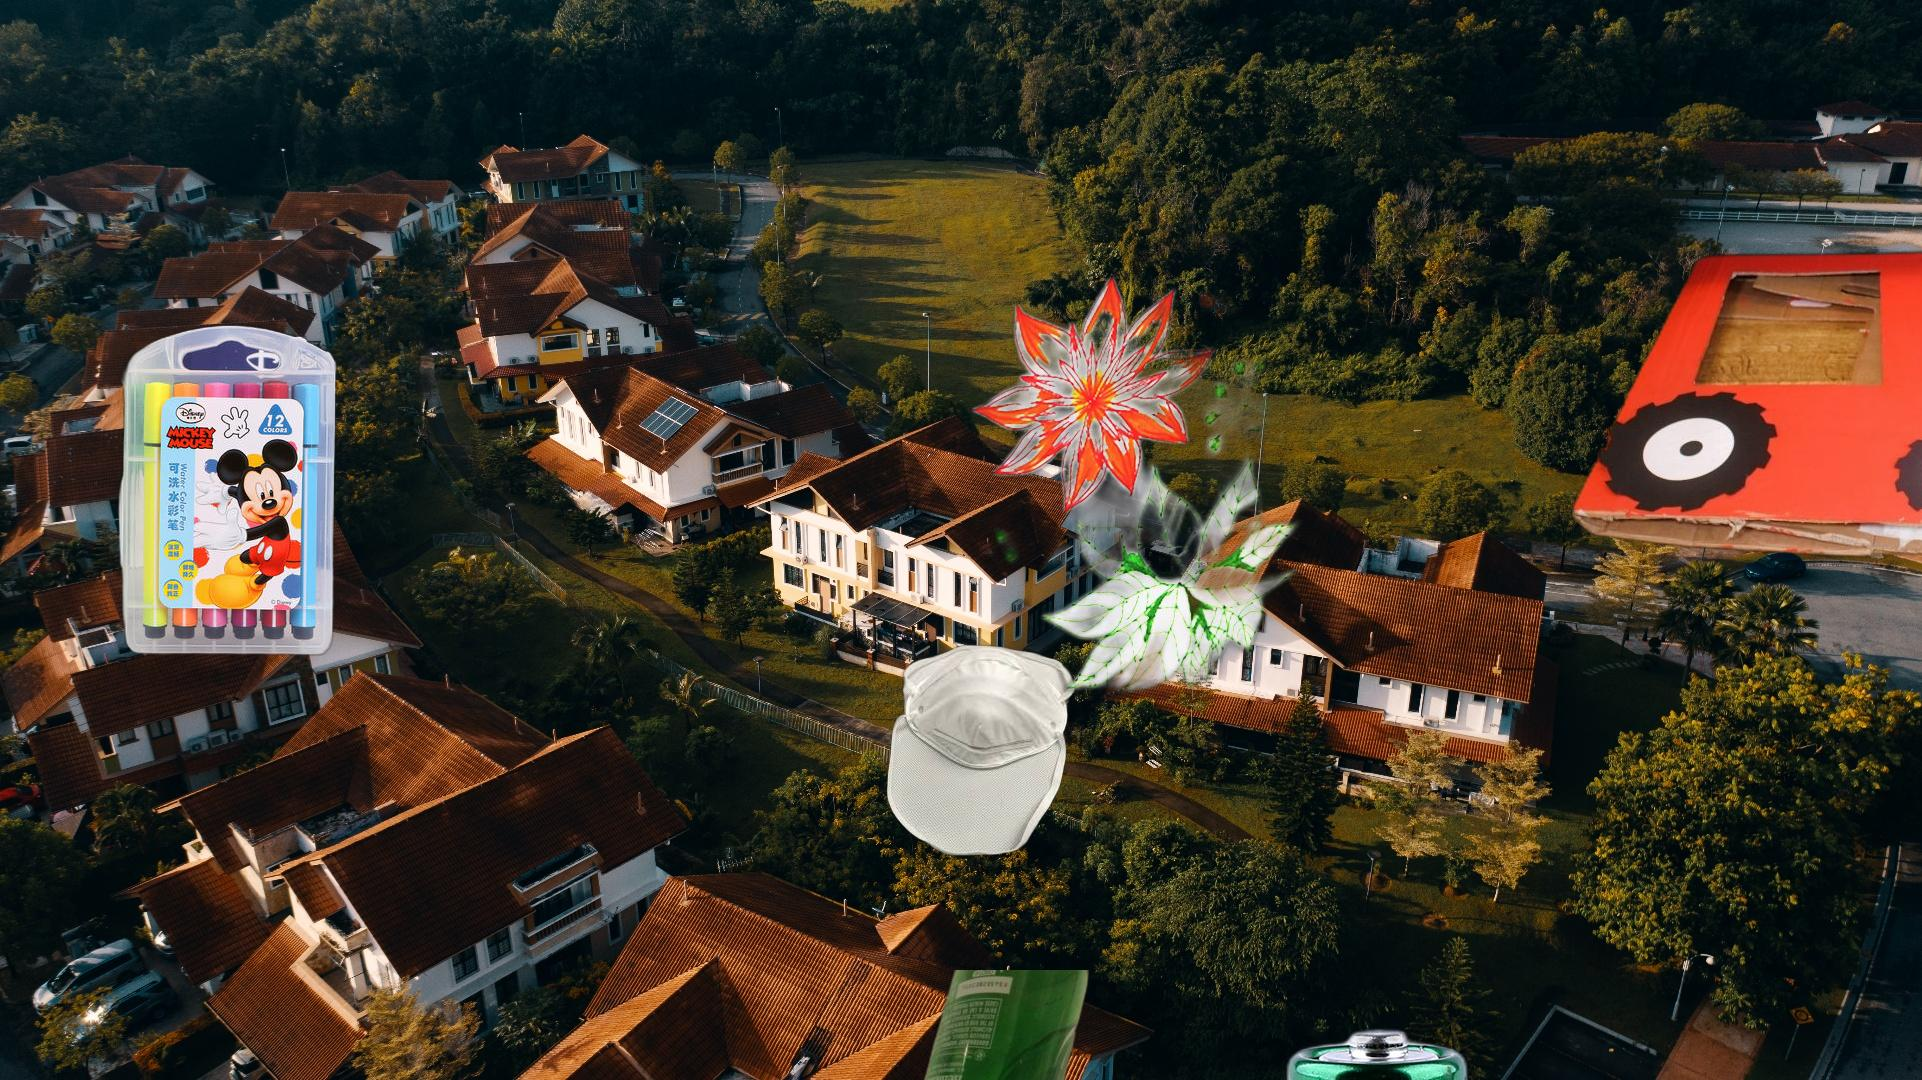battery: (1279, 1025, 1475, 1080)
glass: (883, 970, 1093, 1080)
penholder: (920, 190, 1720, 990), (114, 320, 368, 660)
trash: (884, 642, 1078, 860)
trashbox-cardboard: (1564, 246, 1922, 581)
